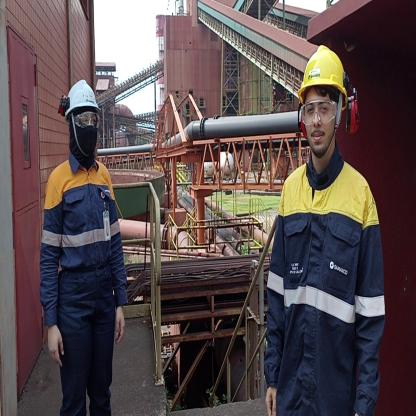Balaclava: (68, 111, 100, 166)
C_eletrica: (264, 160, 378, 396)
Capacete: (300, 46, 345, 92), (58, 80, 102, 113)
Operacional: (42, 164, 126, 317)
